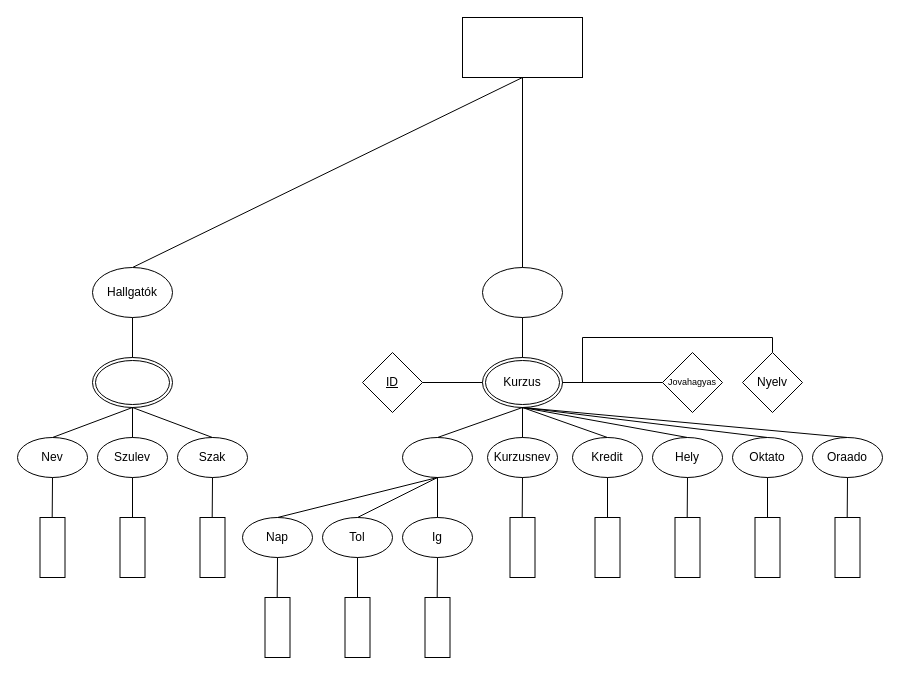
The diagram is 900 pixels wide and 675 high, and some of its shapes have lost their labels. Each missing label, with the centre of its shape:
"Hallgató" goes at [132,382].
"Idopont" goes at [437,457].
"Kurzusfelvétel" goes at [522,47].
"Kurzusok" goes at [522,292].
